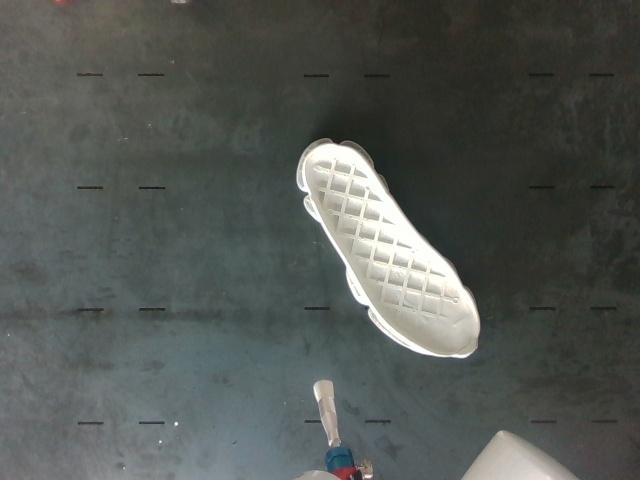shoes: (304, 144, 479, 356)
